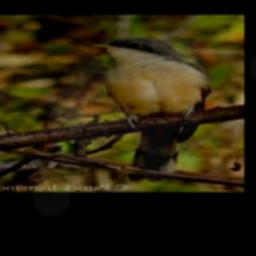Cuckoo: (84, 38, 214, 182)
